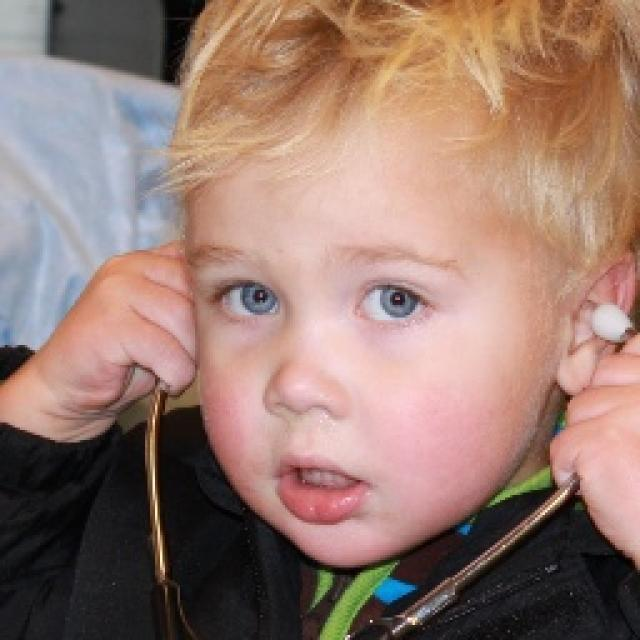earlobe: (555, 349, 599, 398)
eye: (355, 280, 433, 324), (213, 281, 285, 319)
nose: (266, 405, 348, 449)
wholeear: (554, 251, 640, 398)
